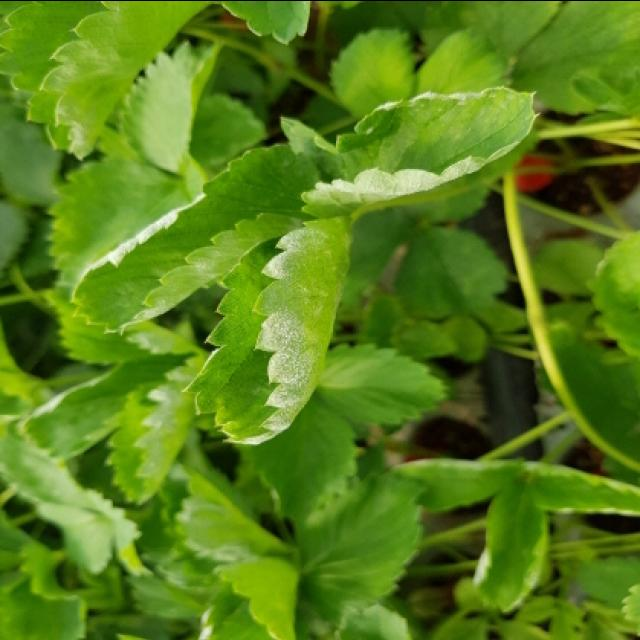Powdery Mildew Leaf: (68, 141, 322, 339), (179, 217, 356, 447), (279, 83, 539, 220)
